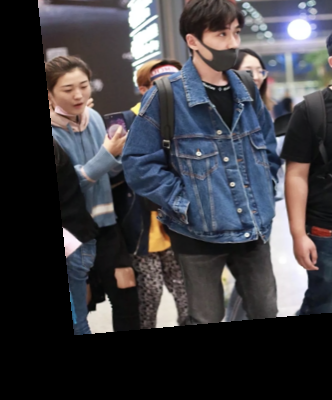mask_weared_incorrect: (177, 1, 247, 73)
